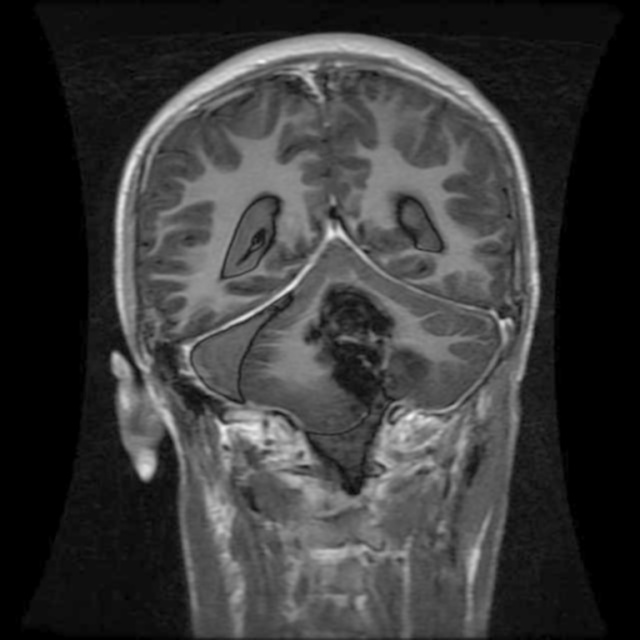pituitary tumor: (314, 289, 388, 389)
